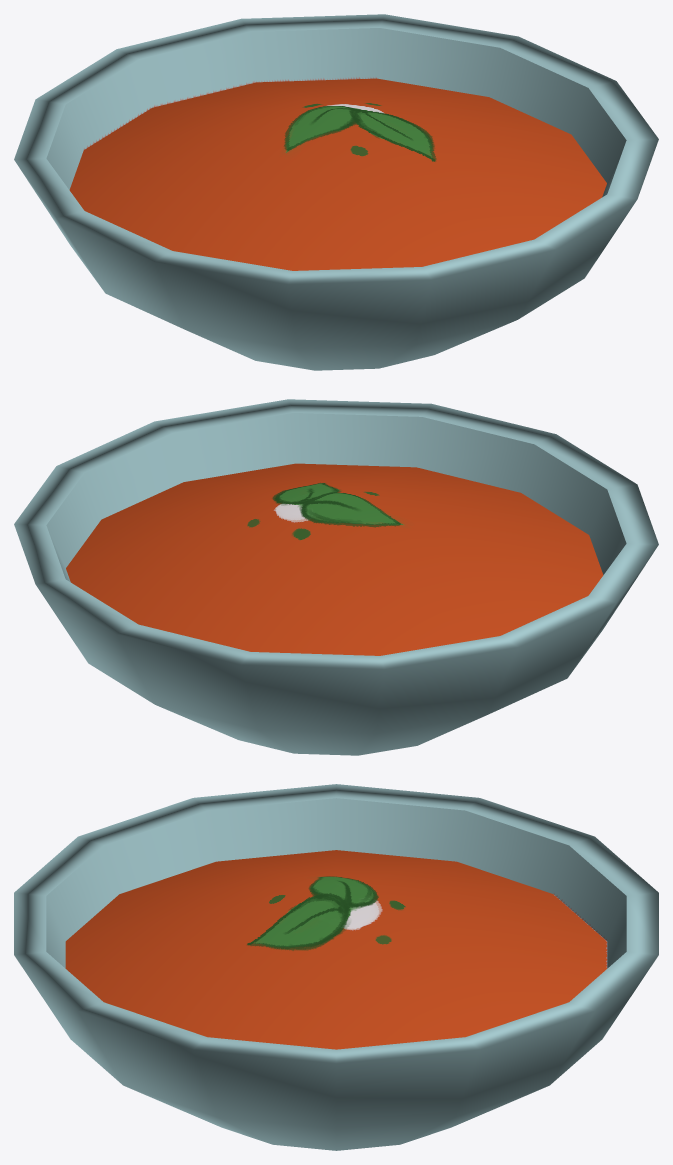
Rendered from tomato_soup.fbx.
3 renders of one model, top to bottom at view 1: azimuth 30°, elevation 25°; view 2: azimuth 150°, elevation 25°; view 3: azimuth 270°, elevation 25°, orthographic. The views are drawn at different scales.
Parts seen in each view (by area): view 1: tomato soup; view 2: tomato soup; view 3: tomato soup.
Part boxes in pixels (box(x1,y1,x2,y2)): tomato soup: box(14, 14, 658, 370); tomato soup: box(14, 399, 658, 755); tomato soup: box(14, 784, 658, 1150).
Size of the model in its own units: 41.39 by 14.13 by 40.35.
Materials: 1 (1 with a texture image).
